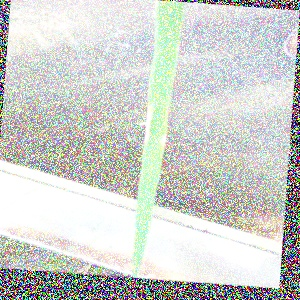Leaf_Blast: (138, 0, 177, 260)
